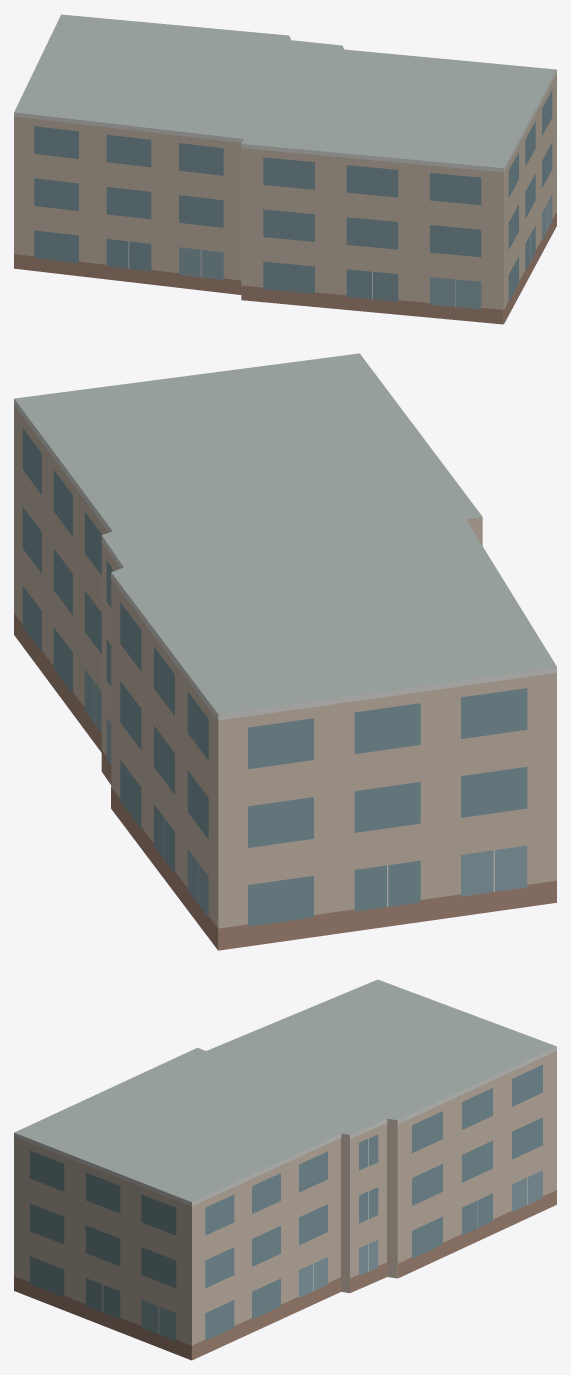
Rendered from survey-upis-32963955.glb.
3 renders of one model, top to bottom at view 1: azimuth 30°, elevation 25°; view 2: azimuth 150°, elevation 25°; view 3: azimuth 270°, elevation 25°, orthographic. The views are drawn at different scales.
Visible parts, largest first — view 1: survey-upis-32963955.tmp; view 2: survey-upis-32963955.tmp; view 3: survey-upis-32963955.tmp.
Boxes of the visible parts, bbox=[...] form: survey-upis-32963955.tmp: bbox=[14, 14, 556, 324]; survey-upis-32963955.tmp: bbox=[14, 353, 556, 950]; survey-upis-32963955.tmp: bbox=[14, 979, 556, 1360].
Bounding box in the file's own units: 27.63 × 9.15 × 28.46.
